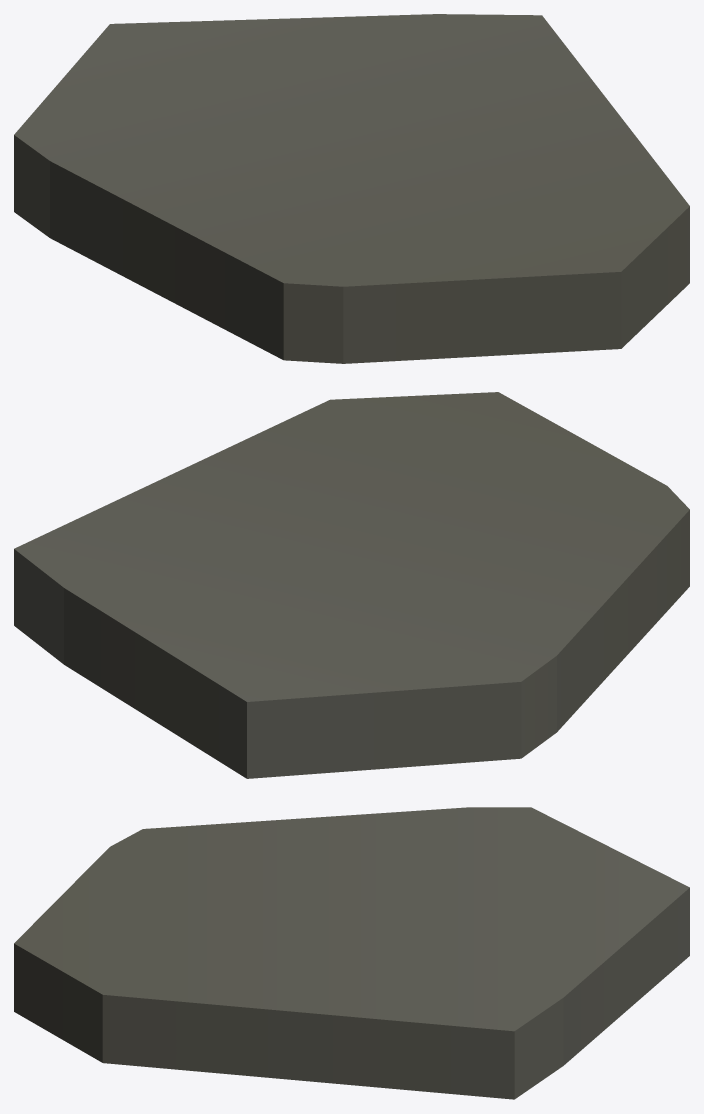
File: Tile_01.fbx
3 renders of one model, top to bottom at view 1: azimuth 30°, elevation 25°; view 2: azimuth 150°, elevation 25°; view 3: azimuth 270°, elevation 25°, orthographic. The views are drawn at different scales.
Visible parts, largest first — view 1: Tile_01; view 2: Tile_01; view 3: Tile_01.
Part boxes in pixels (left/top/right/bottom): Tile_01: left=14, top=14, right=689, bottom=363; Tile_01: left=14, top=392, right=689, bottom=778; Tile_01: left=14, top=807, right=689, bottom=1099.
Bounding box in the file's own units: 0.2647 × 0.0376 × 0.3376.
